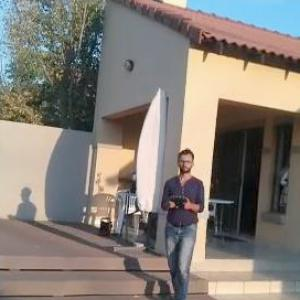follow: (154, 144, 209, 299)
